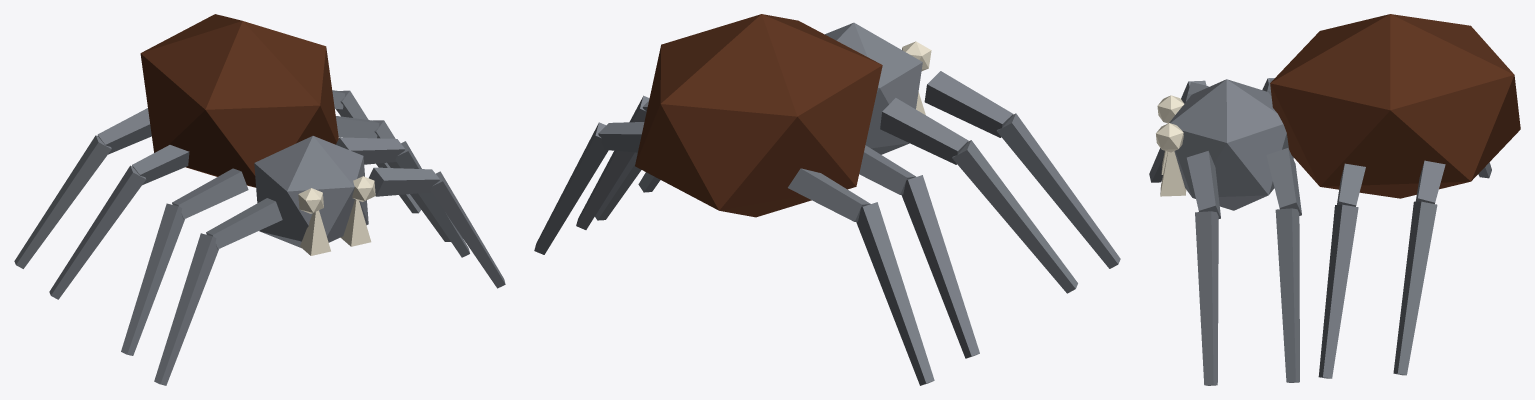
The model's file is npcpose_spider_walk_05.glb.
3 views of the same model, side by side, from view 1: azimuth 30°, elevation 25°; view 2: azimuth 150°, elevation 25°; view 3: azimuth 270°, elevation 25° (orthographic). The views are drawn at different scales.
Visible parts, largest first — view 1: npcpose; view 2: npcpose; view 3: npcpose.
Boxes of the visible parts, bbox=[...] form: npcpose: bbox=[14, 14, 505, 385]; npcpose: bbox=[534, 14, 1120, 385]; npcpose: bbox=[1149, 14, 1520, 385].
Size of the model in its own units: 1.33 by 0.8444 by 1.02.
